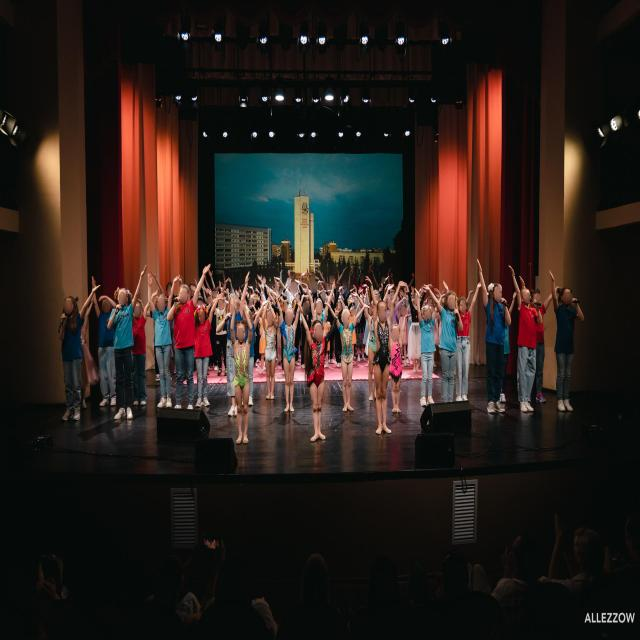Person: (478, 276, 511, 421), (54, 283, 88, 423), (228, 312, 256, 451), (111, 285, 136, 436), (168, 280, 196, 407), (192, 297, 220, 418), (560, 277, 584, 414), (305, 316, 330, 446), (149, 284, 173, 419), (513, 285, 537, 418), (434, 282, 458, 410), (454, 291, 479, 410), (372, 295, 391, 443), (226, 282, 246, 420), (414, 300, 438, 413), (94, 286, 116, 408), (279, 296, 301, 416), (532, 287, 552, 404), (335, 304, 355, 418), (386, 319, 405, 423), (132, 294, 147, 409), (262, 306, 278, 407), (408, 288, 422, 376), (279, 298, 294, 369), (216, 293, 228, 379), (396, 303, 411, 363), (300, 298, 312, 367), (259, 303, 268, 375), (312, 297, 326, 324), (384, 294, 397, 311), (426, 294, 436, 316), (391, 289, 402, 307), (165, 282, 174, 300), (358, 270, 368, 286), (335, 301, 344, 318), (413, 292, 421, 311), (342, 280, 351, 296), (246, 296, 256, 310), (319, 290, 329, 304), (218, 296, 227, 310), (290, 280, 297, 298), (197, 293, 203, 311), (328, 275, 334, 293), (207, 294, 214, 306), (312, 280, 318, 294), (212, 287, 218, 300), (248, 299, 255, 310), (270, 292, 277, 303)
